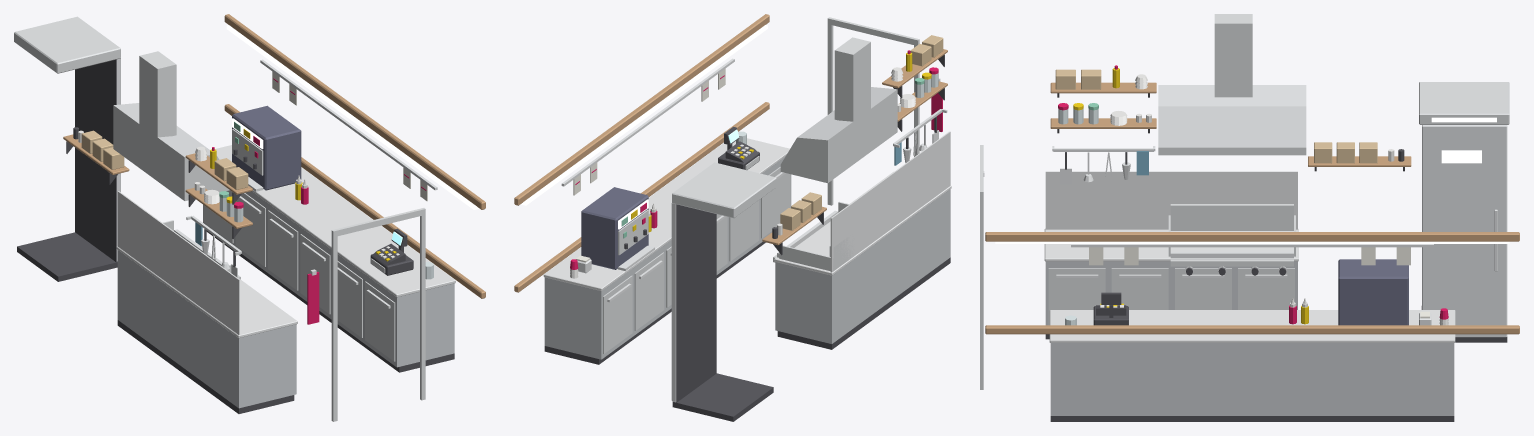
Rendered from truck_interior.glb.
3 renders of one model, left to right at view 1: azimuth 30°, elevation 25°; view 2: azimuth 150°, elevation 25°; view 3: azimuth 270°, elevation 25°, orthographic. The views are drawn at different scales.
Parts seen in each view (by area): view 1: interior_static_acero, interior_static_gabinete, interior_static_acero_claro, interior_static_oscuro, nevera_bisagra_oscuro, interior_middle_madera, interior_static_azul_oscuro, interior_rear_acero, interior_static_carton, interior_middle_brillo_calido, interior_static_cromo, interior_static_madera (+6 smaller); view 2: interior_static_acero, interior_static_gabinete, interior_static_acero_claro, nevera_bisagra_oscuro, interior_static_oscuro, interior_middle_madera, interior_static_azul_oscuro, interior_static_cromo, interior_rear_acero, interior_static_carton, interior_middle_brillo_calido, interior_static_madera (+5 smaller); view 3: interior_static_gabinete, interior_static_acero, interior_static_acero_claro, nevera_bisagra_nevera, interior_middle_madera, interior_static_azul_oscuro, interior_static_oscuro, interior_static_cromo, interior_static_madera, interior_static_carton, interior_middle_brillo_calido, interior_middle_cromo (+5 smaller).
Boxes of the visible parts, bbox=[...] form: interior_static_acero: bbox=[14, 16, 395, 361]; interior_static_gabinete: bbox=[117, 191, 454, 408]; interior_static_acero_claro: bbox=[116, 145, 455, 338]; interior_static_oscuro: bbox=[17, 127, 454, 413]; nevera_bisagra_oscuro: bbox=[75, 59, 116, 262]; interior_middle_madera: bbox=[224, 14, 485, 298]; interior_static_azul_oscuro: bbox=[232, 105, 301, 190]; interior_rear_acero: bbox=[331, 208, 425, 421]; interior_static_carton: bbox=[81, 130, 248, 189]; interior_middle_brillo_calido: bbox=[226, 25, 479, 209]; interior_static_cromo: bbox=[174, 177, 390, 308]; interior_static_madera: bbox=[63, 134, 252, 228]; interior_static_acero: bbox=[603, 37, 897, 353]; interior_static_gabinete: bbox=[544, 157, 950, 359]; interior_static_acero_claro: bbox=[543, 131, 951, 290]; nevera_bisagra_oscuro: bbox=[676, 204, 716, 402]; interior_static_oscuro: bbox=[544, 54, 950, 421]; interior_middle_madera: bbox=[514, 14, 769, 292]; interior_static_azul_oscuro: bbox=[581, 187, 648, 269]; interior_static_cromo: bbox=[577, 109, 947, 302]; interior_rear_acero: bbox=[827, 17, 919, 205]; interior_static_carton: bbox=[780, 35, 943, 230]; interior_middle_brillo_calido: bbox=[520, 25, 767, 205]; interior_static_madera: bbox=[762, 49, 947, 245]; interior_static_gabinete: bbox=[1045, 261, 1454, 415]; interior_static_acero: bbox=[1048, 14, 1509, 325]; interior_static_acero_claro: bbox=[1044, 171, 1455, 342]; nevera_bisagra_nevera: bbox=[1422, 125, 1507, 337]; interior_middle_madera: bbox=[985, 232, 1519, 334]; interior_static_azul_oscuro: bbox=[1338, 259, 1408, 325]; interior_static_oscuro: bbox=[1045, 93, 1507, 421]; interior_static_cromo: bbox=[1052, 146, 1431, 325]; interior_static_madera: bbox=[1050, 82, 1411, 166]; interior_static_carton: bbox=[1055, 69, 1377, 163]; interior_middle_brillo_calido: bbox=[995, 241, 1509, 243]; interior_middle_cromo: bbox=[1071, 244, 1433, 247].
Bounding box in the file's own units: 2.63 × 3.25 × 5.35.
